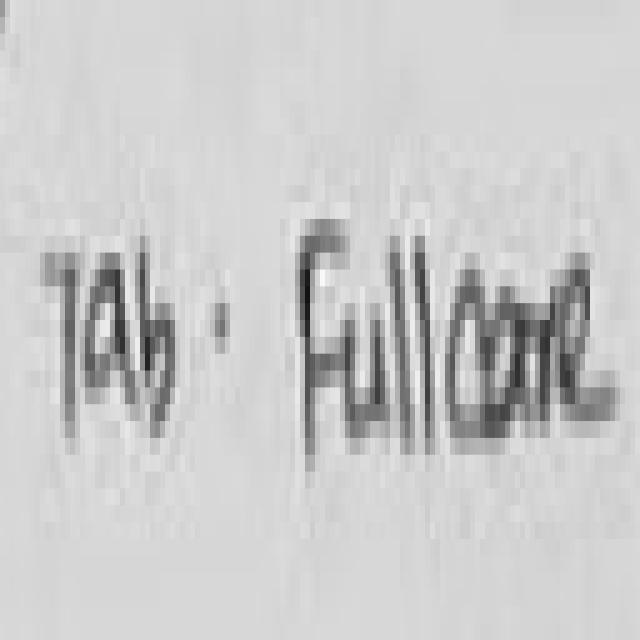F: (300, 219, 350, 463)
T: (48, 253, 90, 429)
a: (85, 269, 135, 404), (483, 286, 525, 442)
b: (138, 243, 175, 451)
c: (444, 274, 488, 453)
e: (560, 269, 614, 429)
l: (415, 236, 435, 455), (395, 253, 415, 446)
r: (519, 312, 552, 421)
u: (345, 320, 397, 442)
